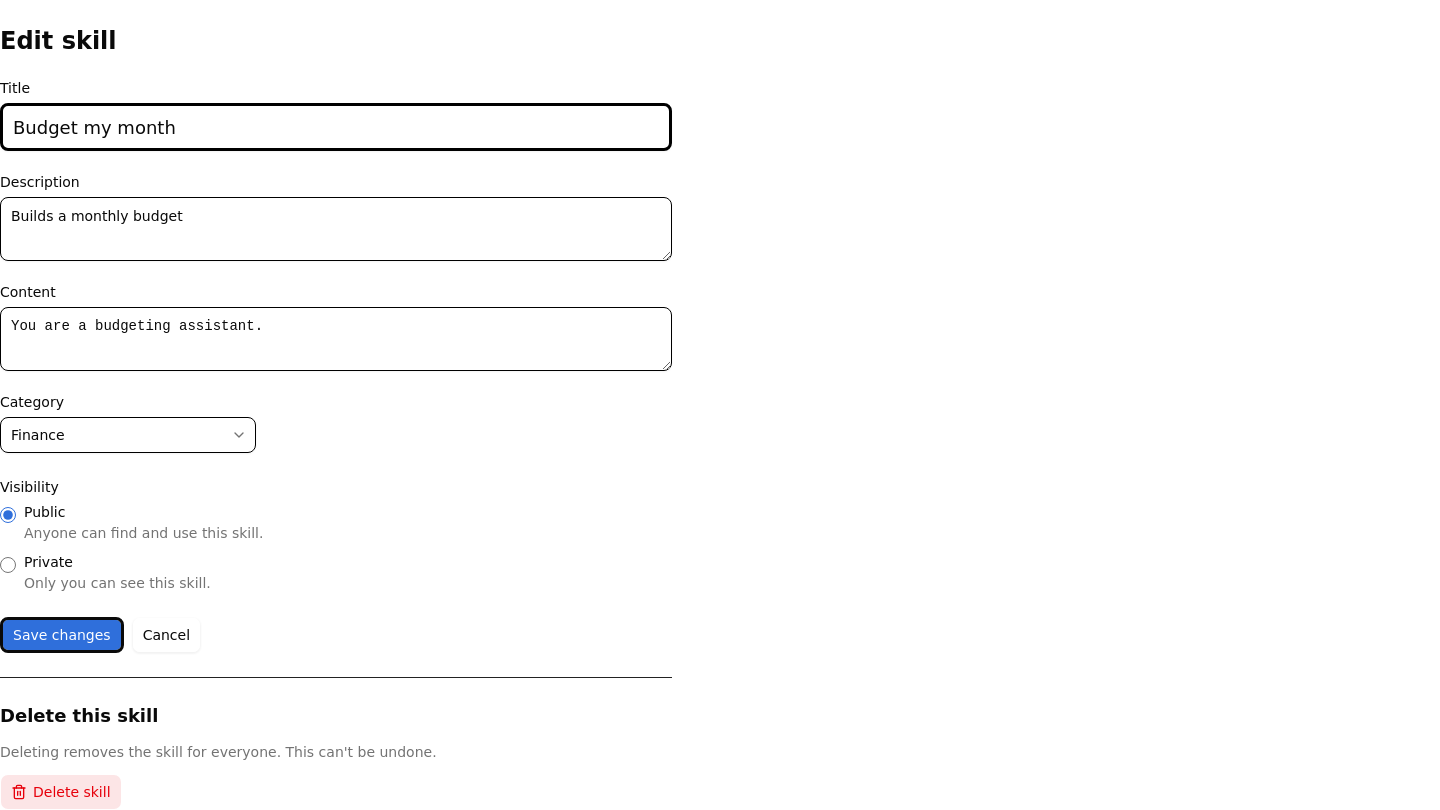
it: Delete skill › shows an error when the user doesn't own the skill (403)
The width and height of the screenshot is (1440, 810).
(page scrolled)
Click the button "Delete skill".
click(61, 792)  # box x1=0 y1=774 x2=122 y2=809
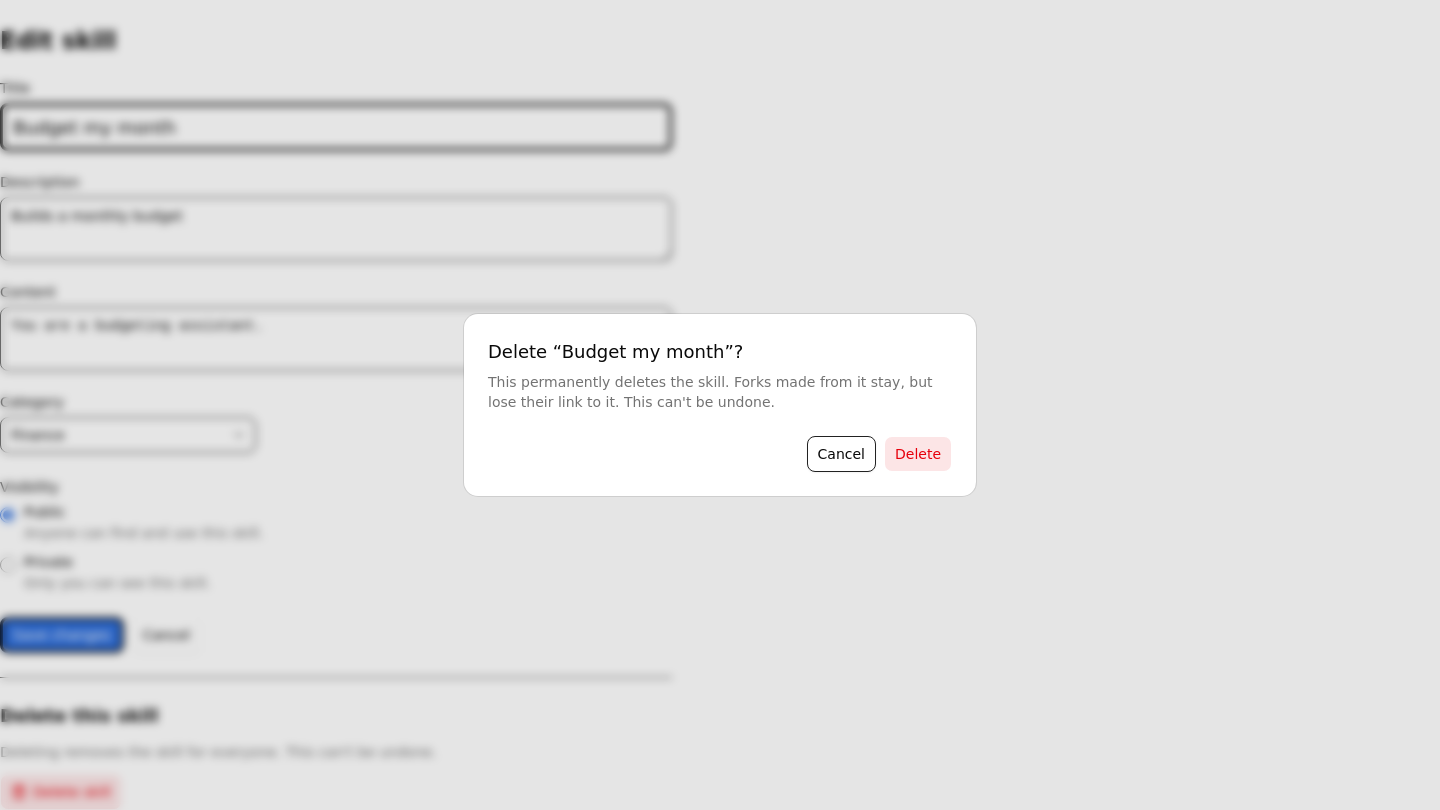
Expected: the dialog is shown, x1=464 y1=314 x2=976 y2=496
Click the button "Delete".
click(918, 454)  # box x1=884 y1=436 x2=952 y2=472
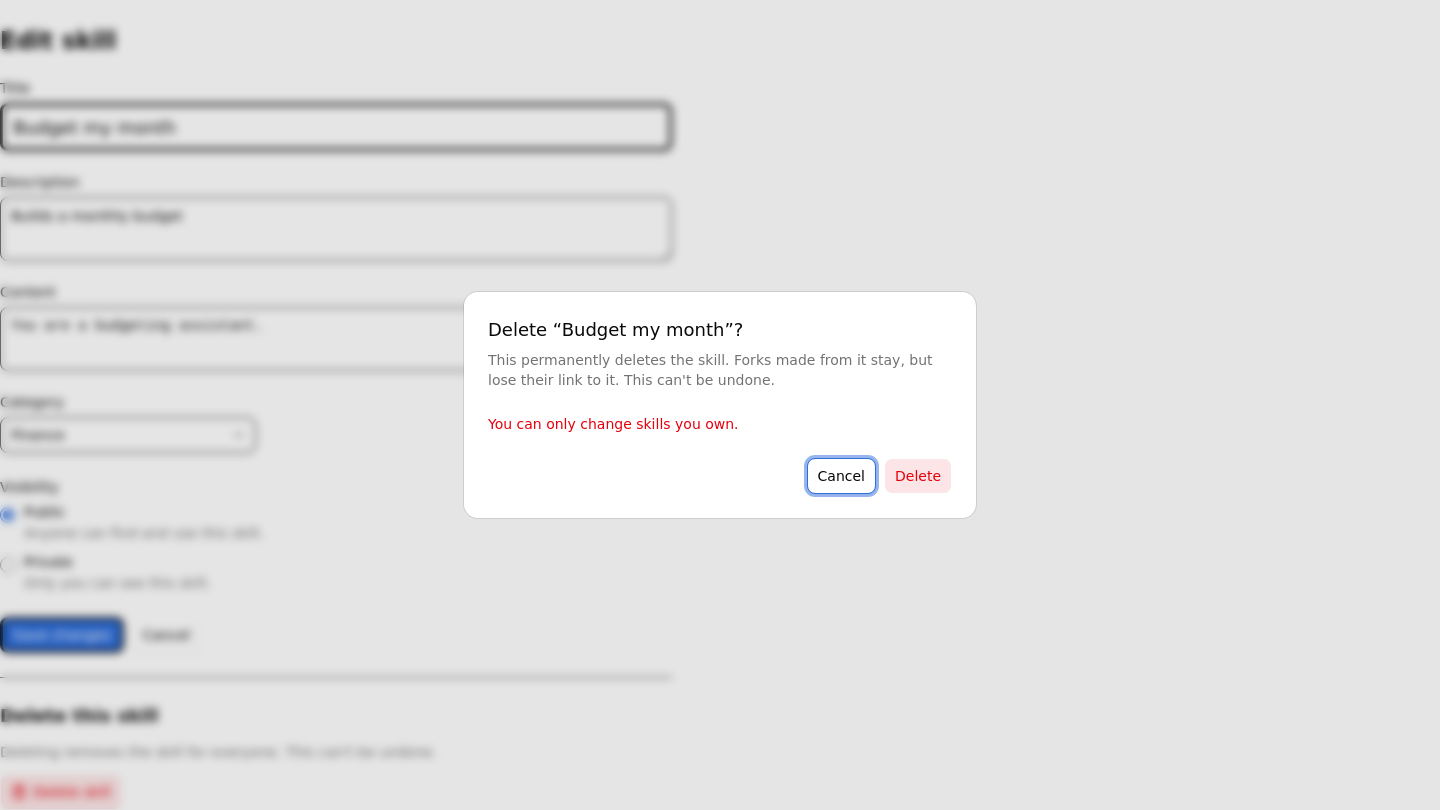
Expected: the message reads "You can only change skills you own.", x1=488 y1=416 x2=738 y2=432
